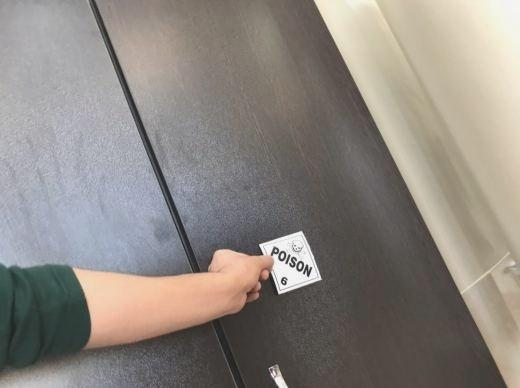poison: (257, 229, 322, 295)
